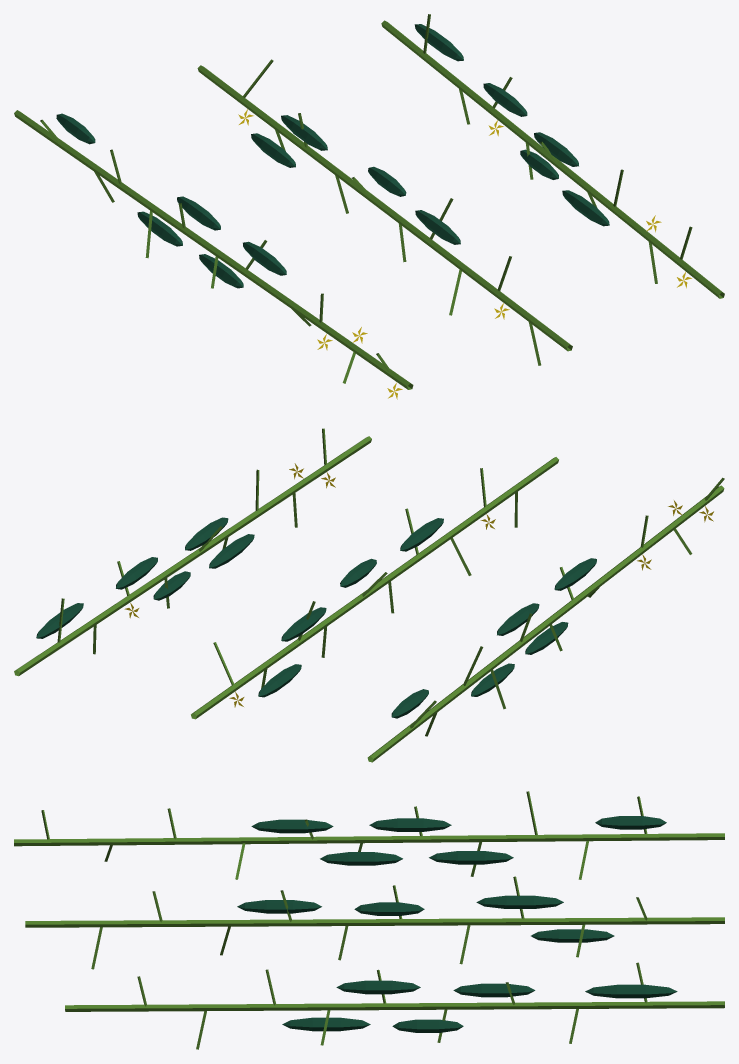
File: r6c0_stems.obj
3 renders of one model, top to bottom at view 1: azimuth 30°, elevation 25°; view 2: azimuth 150°, elevation 25°; view 3: azimuth 270°, elevation 25°, orthographic. The views are drawn at different scales.
Visible parts, largest first — view 1: r6c0_stems; view 2: r6c0_stems; view 3: r6c0_stems.
Part boxes in pixels (<box>): r6c0_stems: <box>14,14,724,399</box>; r6c0_stems: <box>14,428,724,762</box>; r6c0_stems: <box>14,791,724,1049</box>.
Size of the model in its own units: 1.34 by 0.3049 by 2.18.
